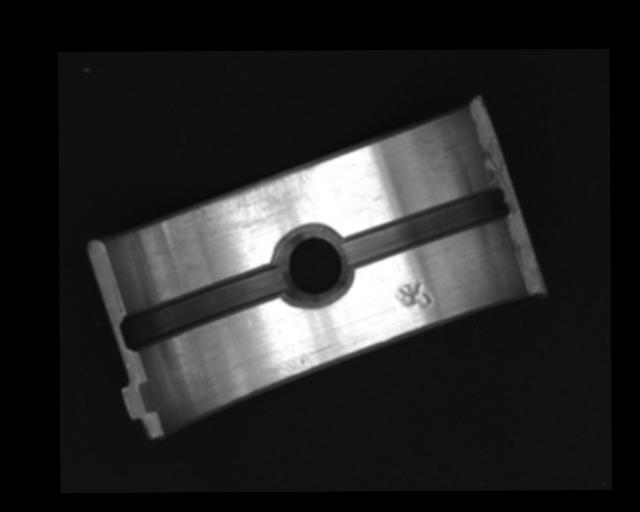bruise: (394, 278, 436, 310)
gap: (119, 264, 290, 351), (344, 189, 509, 266)
hole: (273, 225, 354, 306)
scratch: (180, 160, 328, 227)
